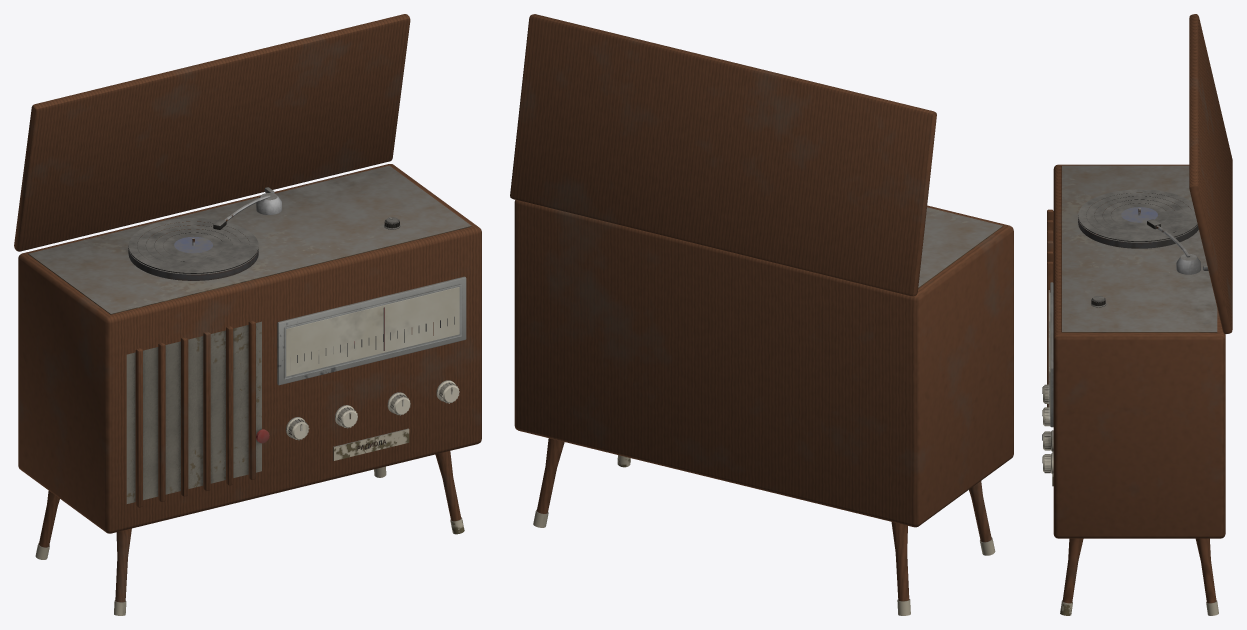
File: SM_Radiogram.fbx
The picture shows the model from 3 angles, left to right: view 1: azimuth 30°, elevation 25°; view 2: azimuth 150°, elevation 25°; view 3: azimuth 270°, elevation 25°; orthographic projection. The views are drawn at different scales.
Visible parts, largest first — view 1: SM_Radiogram; view 2: SM_Radiogram; view 3: SM_Radiogram.
Part boxes in pixels (x1=…): SM_Radiogram: x1=14, y1=14, x2=481, y2=615; SM_Radiogram: x1=510, y1=14, x2=1013, y2=615; SM_Radiogram: x1=1042, y1=14, x2=1232, y2=615.
Bounding box in the file's own units: 1 × 1.18 × 0.4639.
2 materials, 1 textured.
